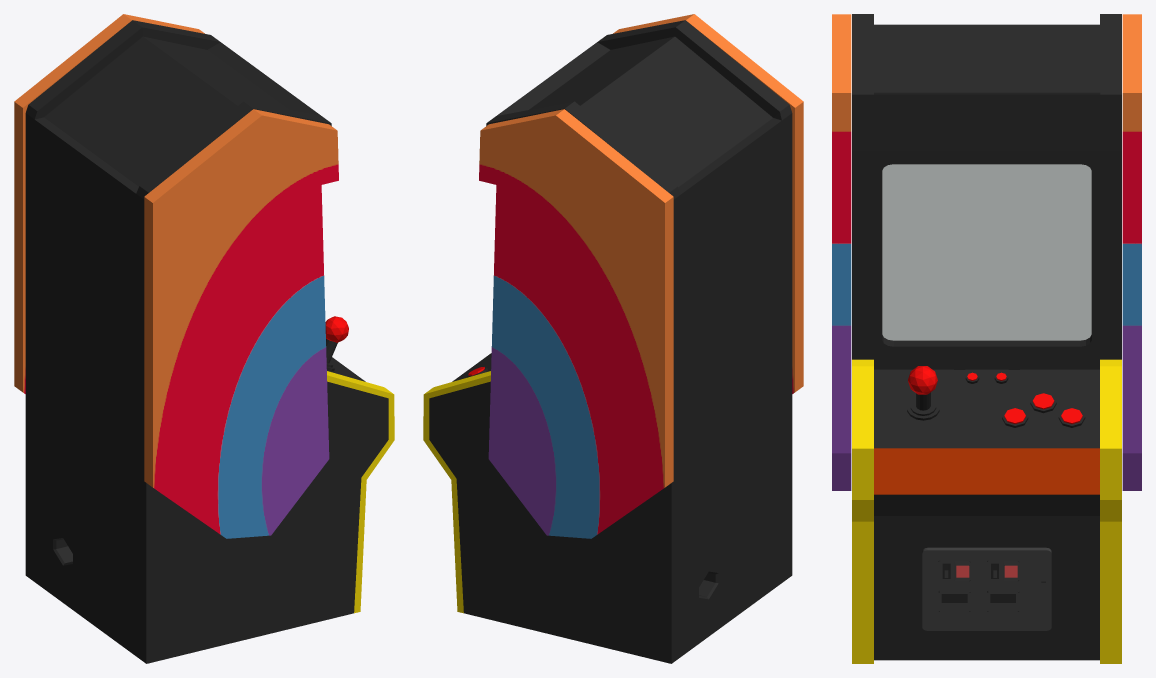
File: ArcadeMachine-v4.gltf
3 views of the same model, side by side, from view 1: azimuth 30°, elevation 25°; view 2: azimuth 150°, elevation 25°; view 3: azimuth 270°, elevation 25° (orthographic). The views are drawn at different scales.
Visible parts, largest first — view 1: Machine-Main.002, Side-ExtenderMain.002; view 2: Machine-Main.002, Side-ExtenderMain.002; view 3: Machine-Main.002, Side-ExtenderMain.002, JoystickMain.002.
Boxes of the visible parts, left/top/right/bottom form: Machine-Main.002: left=25, top=20, right=394, bottom=663; Side-ExtenderMain.002: left=14, top=14, right=338, bottom=538; Machine-Main.002: left=423, top=20, right=792, bottom=663; Side-ExtenderMain.002: left=479, top=14, right=803, bottom=538; Machine-Main.002: left=852, top=14, right=1121, bottom=663; Side-ExtenderMain.002: left=832, top=14, right=1141, bottom=490; JoystickMain.002: left=908, top=366, right=937, bottom=394.
Bounding box in the file's own units: 2.53 × 5.1 × 2.42.
8 materials, 1 textured.
